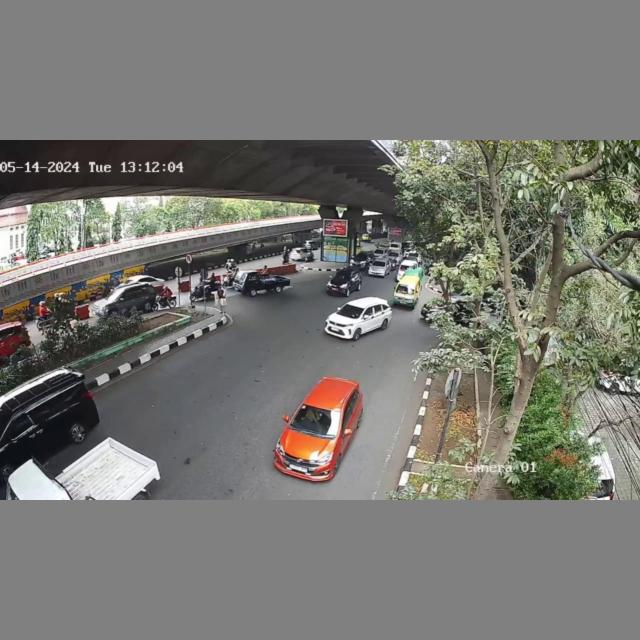windshield: (291, 403, 341, 436), (333, 302, 364, 320)
